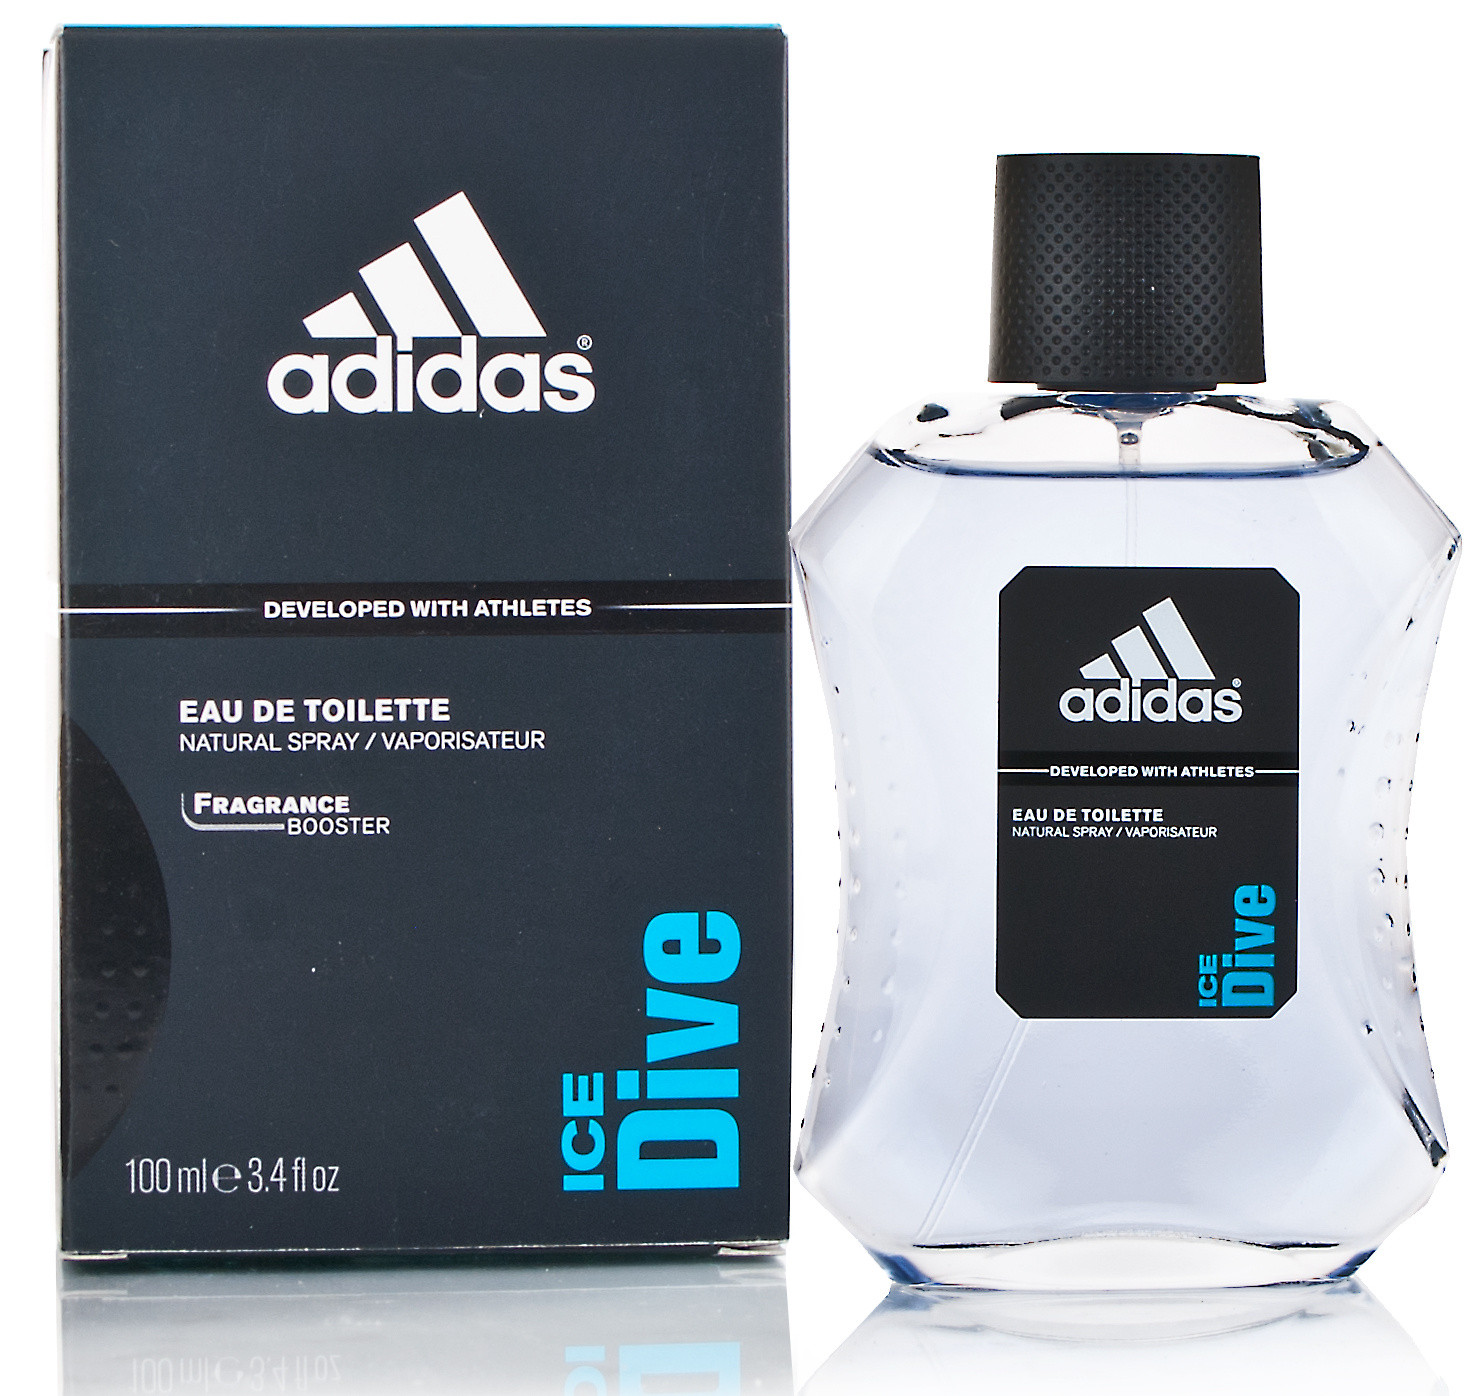Adidas: (248, 182, 625, 422)
